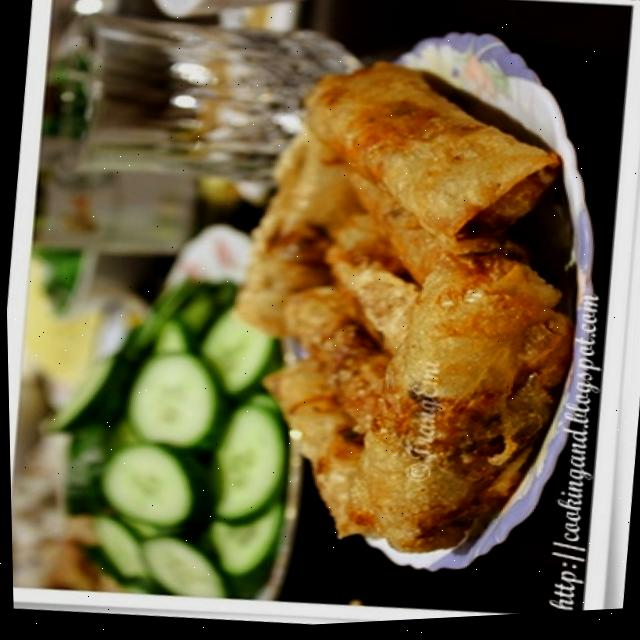炸货点心: (179, 15, 611, 590)
